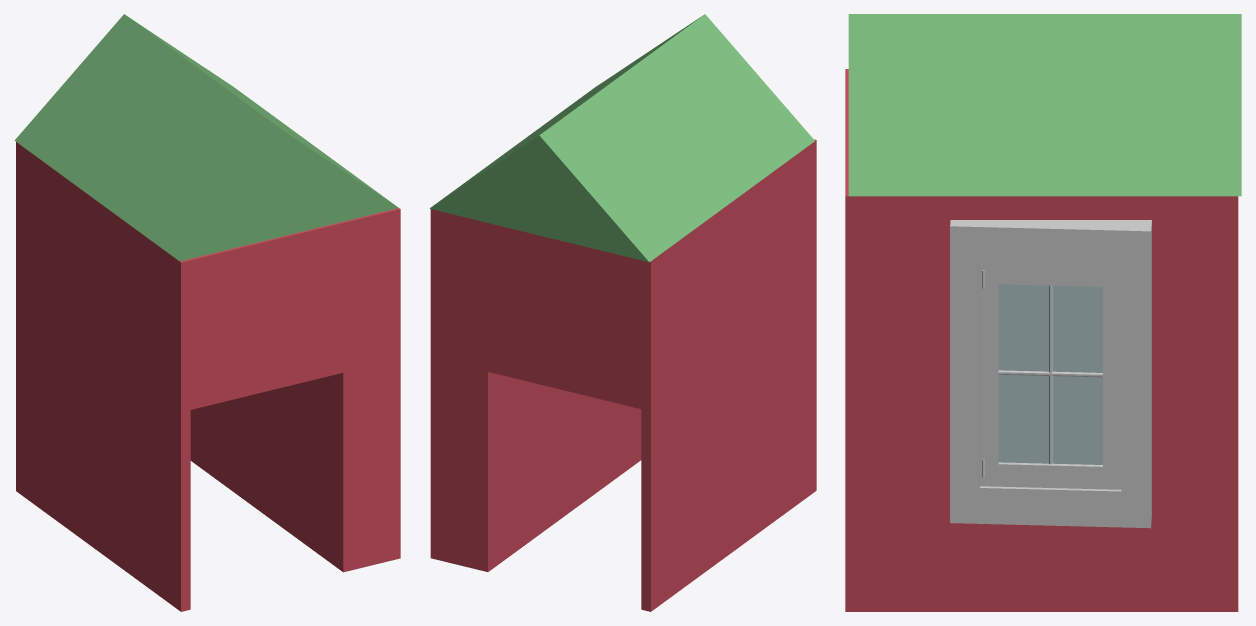
Rendered from casa.glb.
The picture shows the model from 3 angles, left to right: view 1: azimuth 30°, elevation 25°; view 2: azimuth 150°, elevation 25°; view 3: azimuth 270°, elevation 25°; orthographic projection. The views are drawn at different scales.
Parts seen in each view (by area): view 1: Mesh_Mesh_head_geo.001_lambert2SG.001; view 2: Mesh_Mesh_head_geo.001_lambert2SG.001; view 3: Mesh_Mesh_head_geo.001_lambert2SG.001.
Boxes of the visible parts, x1=… form: Mesh_Mesh_head_geo.001_lambert2SG.001: x1=14, y1=14, x2=400, y2=611; Mesh_Mesh_head_geo.001_lambert2SG.001: x1=430, y1=14, x2=816, y2=611; Mesh_Mesh_head_geo.001_lambert2SG.001: x1=845, y1=14, x2=1241, y2=611.
Size of the model in its own units: 25.03 by 45 by 30.26.
